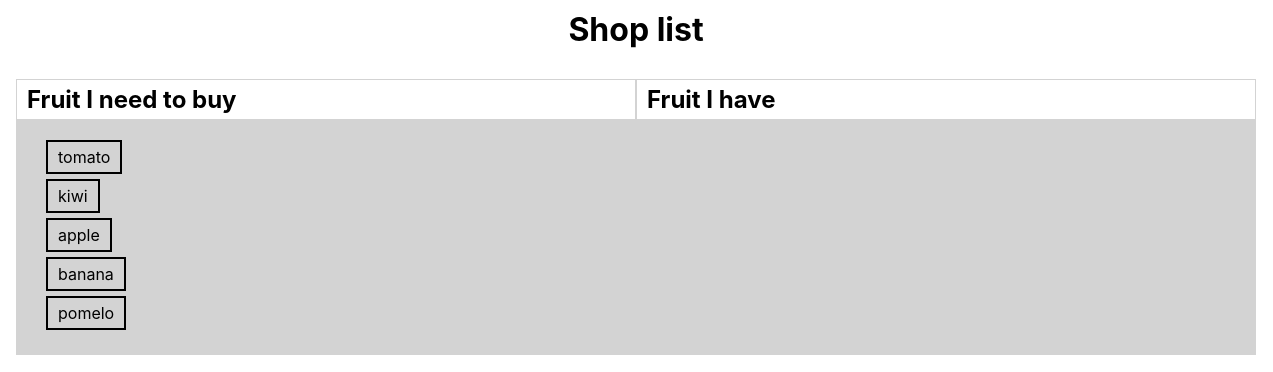
Test case: moving an item from ShoppingList to PickedList works
Click the text "tomato".
click(84, 157)  # box left=46, top=140, right=122, bottom=174
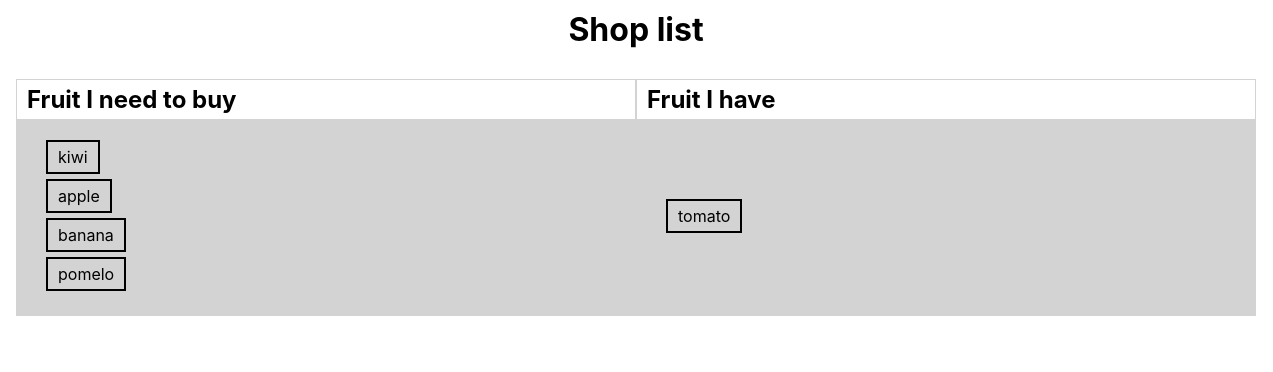
expect the number of list items with test id "shopping-list-item" is 4: met, box left=46, top=140, right=100, bottom=179; left=46, top=179, right=112, bottom=218; left=46, top=218, right=126, bottom=257; left=46, top=257, right=126, bottom=296
expect the number of list items with test id "picked-list-item" is 1: met, box left=666, top=198, right=742, bottom=238
